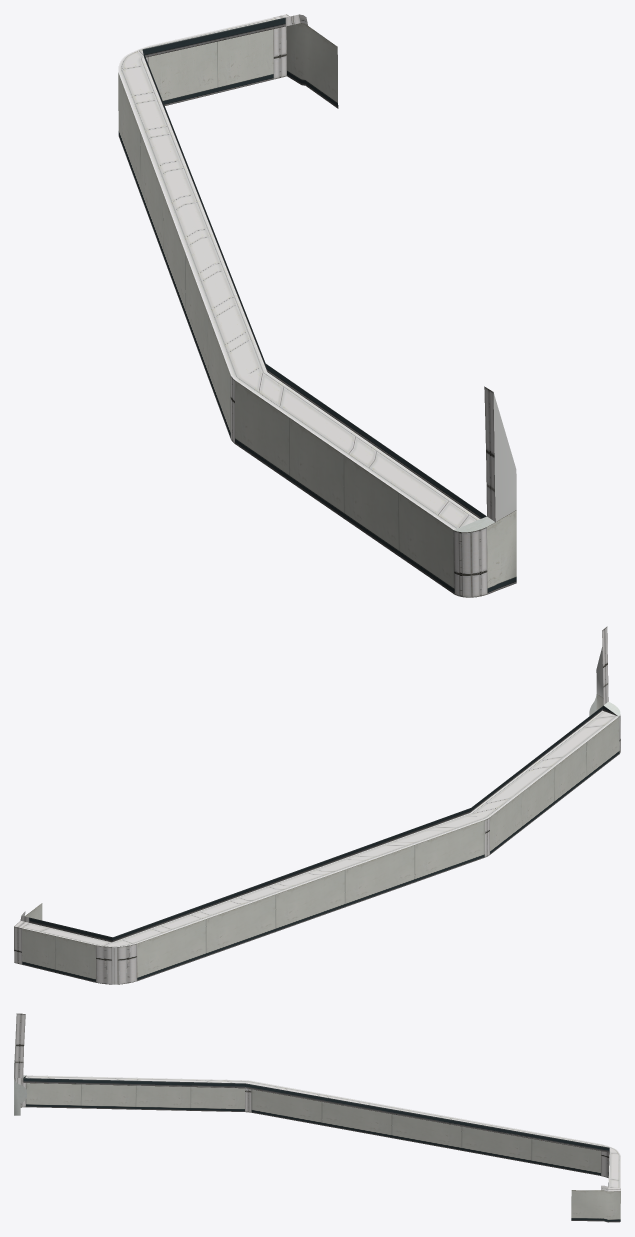
Rendered from STA20_OfficeExtLow01.FBX.
3 views of the same model, one above another, from view 1: azimuth 30°, elevation 25°; view 2: azimuth 150°, elevation 25°; view 3: azimuth 270°, elevation 25° (orthographic). The views are drawn at different scales.
Parts seen in each view (by area): view 1: STA20_OfficeExtLow01; view 2: STA20_OfficeExtLow01; view 3: STA20_OfficeExtLow01.
Boxes of the visible parts, x1,y1,x2,y2 form: STA20_OfficeExtLow01: (118, 14, 516, 597); STA20_OfficeExtLow01: (14, 626, 620, 984); STA20_OfficeExtLow01: (14, 1013, 620, 1222).
Size of the model in its own units: 23.15 by 11.51 by 56.7.
